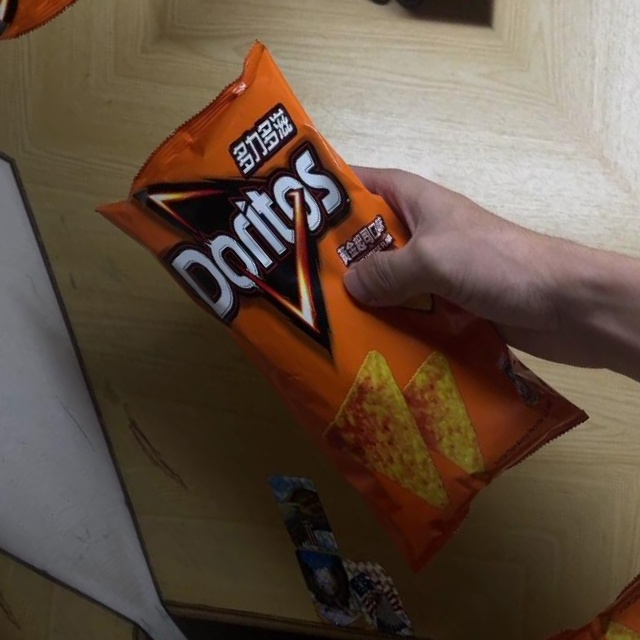Doritos: (77, 31, 597, 583)
